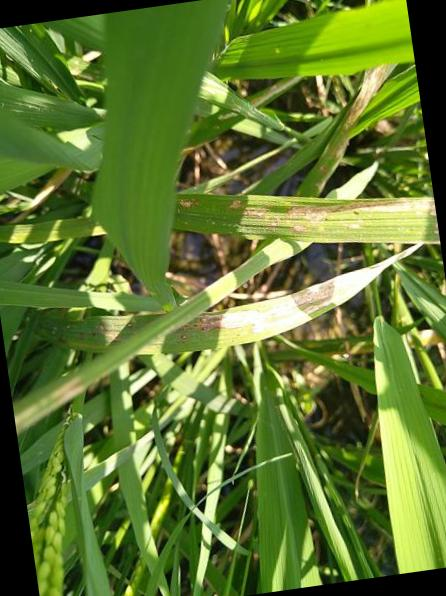Leaf Streak: (161, 243, 421, 353), (298, 62, 398, 197), (172, 193, 440, 243), (35, 307, 154, 350)
